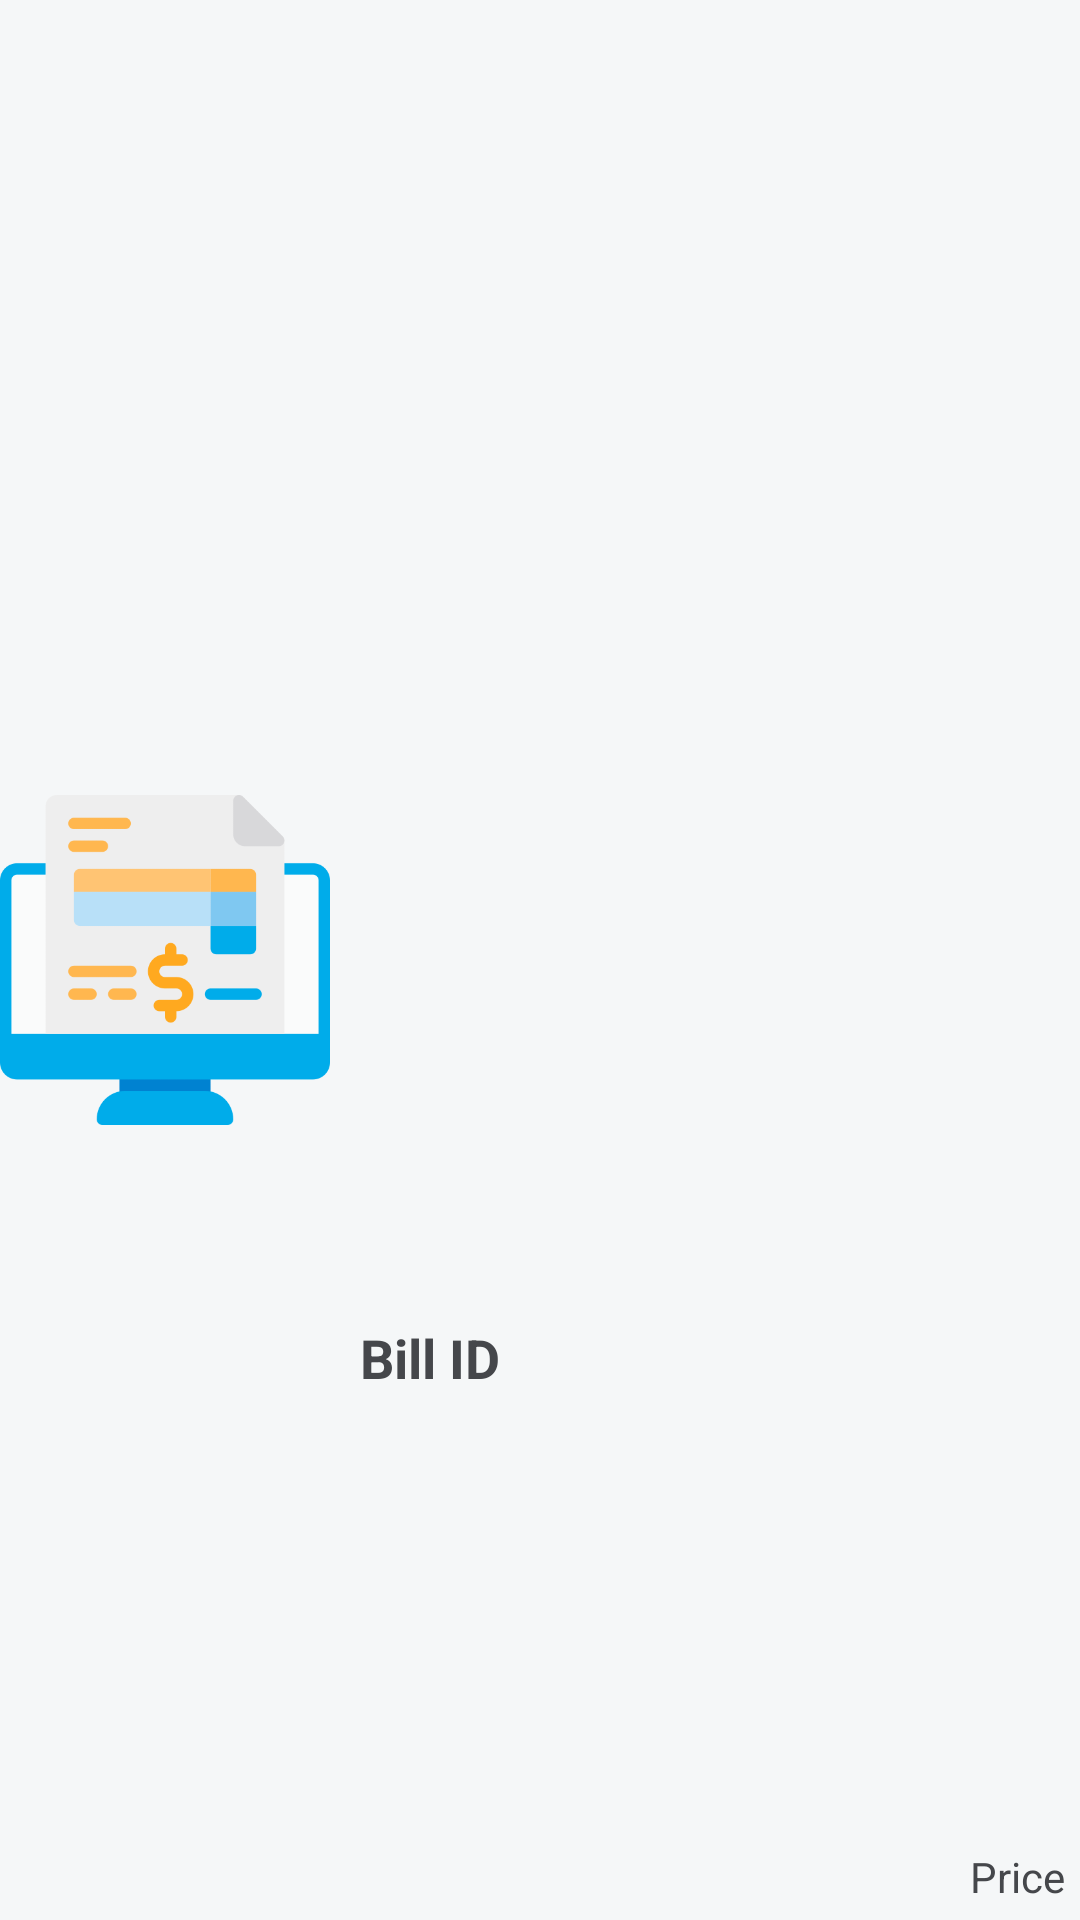

Point at icon controls on the screen. Image size 1080×1920, points as [x,y].
bill: [165,960]
